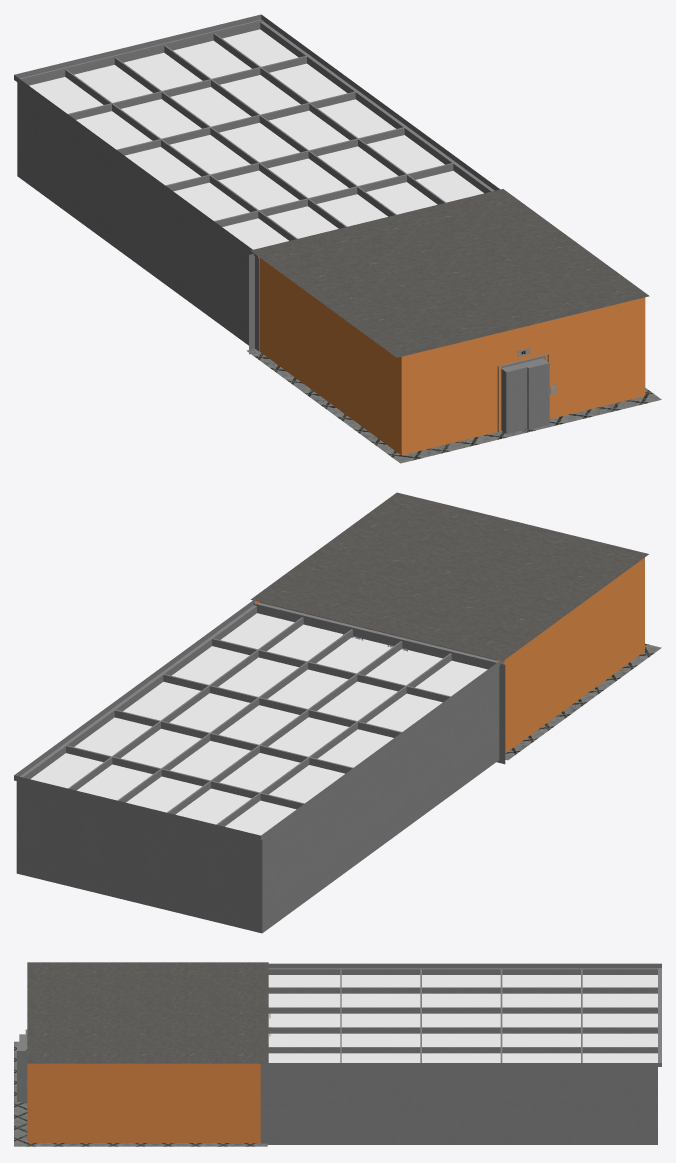
Rendered from XList ETF Vault Room.fbx.
3 views of the same model, one above another, from view 1: azimuth 30°, elevation 25°; view 2: azimuth 150°, elevation 25°; view 3: azimuth 270°, elevation 25° (orthographic). The views are drawn at different scales.
Visible parts, largest first — view 1: MainVault, Plane.005, Plane.001, Plane.002, Plane; view 2: MainVault, Plane.005, Plane.001, Plane; view 3: MainVault, Plane.005, Plane.001, Plane, Plane.002.
Part boxes in pixels (x1,y1,x2,y2): MainVault: (14, 14, 499, 354); Plane.005: (250, 189, 649, 357); Plane.001: (259, 258, 645, 455); Plane.002: (497, 354, 549, 433); Plane: (246, 348, 661, 463); MainVault: (14, 600, 505, 933); Plane.005: (251, 492, 648, 661); Plane.001: (255, 557, 644, 753); Plane: (505, 643, 661, 760); MainVault: (260, 963, 661, 1144); Plane.005: (27, 962, 268, 1063); Plane.001: (27, 1063, 260, 1142); Plane: (14, 1041, 267, 1146); Plane.002: (17, 1029, 27, 1103).
Bounding box in the file's own units: 1370 × 517 × 3576.
